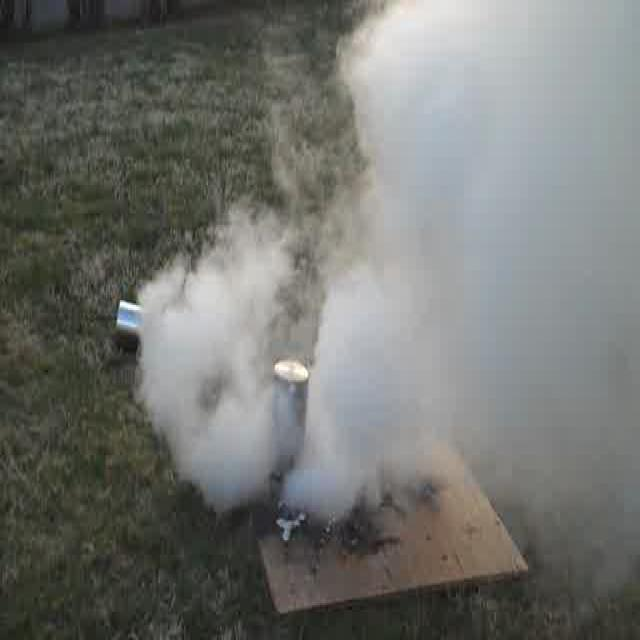Smoke: (316, 6, 638, 532), (146, 220, 274, 505)
